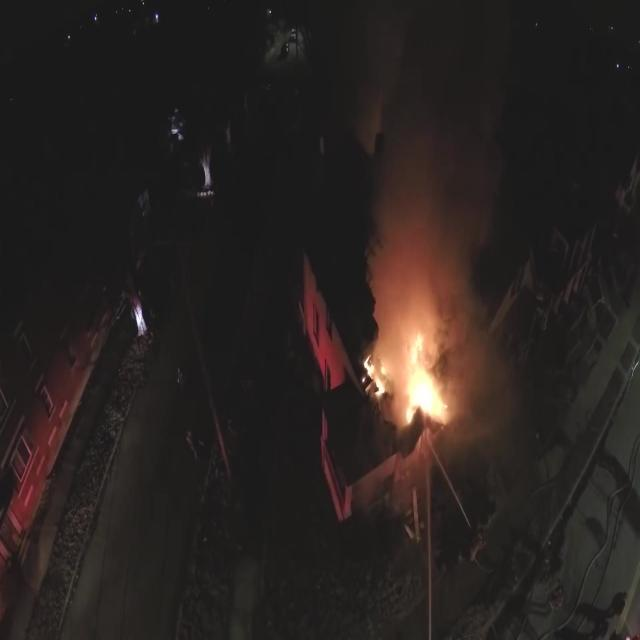Fire: (410, 374, 442, 418)
Smoke: (376, 80, 473, 328)
